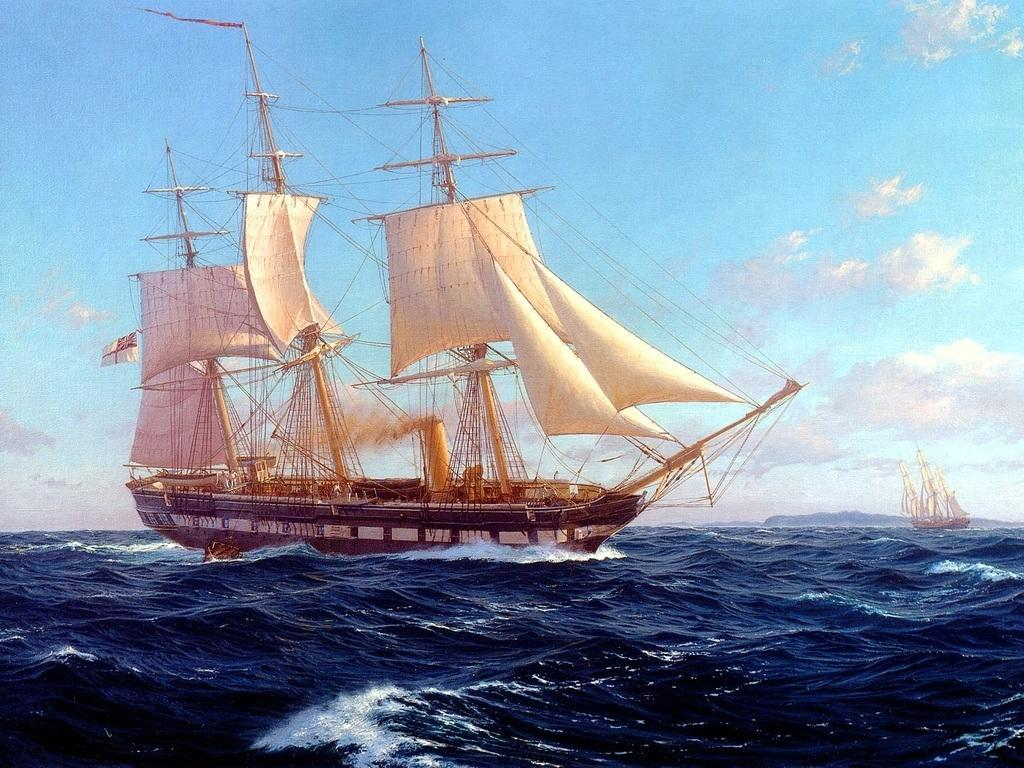fanchuan: (108, 5, 806, 562), (892, 442, 979, 535)
